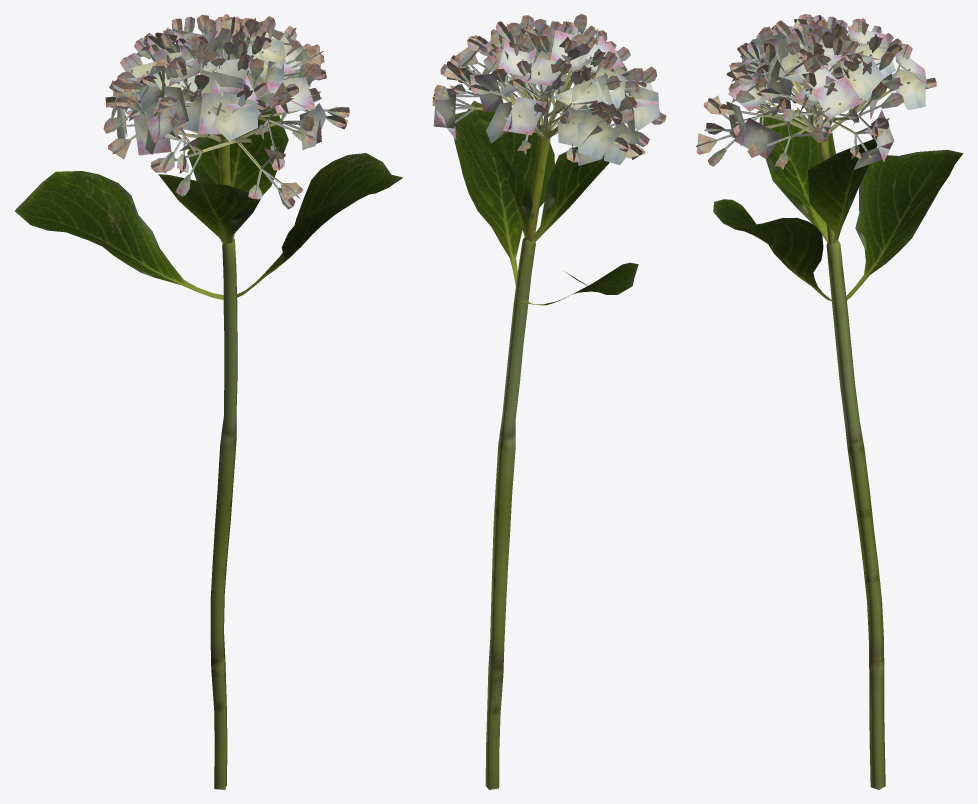
Rendered from Hydrangea_baby_normal_yellowgreen.glb.
3 views of the same model, side by side, from view 1: azimuth 30°, elevation 25°; view 2: azimuth 150°, elevation 25°; view 3: azimuth 270°, elevation 25° (orthographic). The views are drawn at different scales.
Parts seen in each view (by area): view 1: BABY; view 2: BABY; view 3: BABY.
Part boxes in pixels (x1,y1,x2,y2): BABY: (15,14,402,789); BABY: (432,14,666,789); BABY: (696,14,963,789).
Bounding box in the file's own units: 0.7928 × 2.22 × 0.7195.
Materials: 1 (1 with a texture image).
